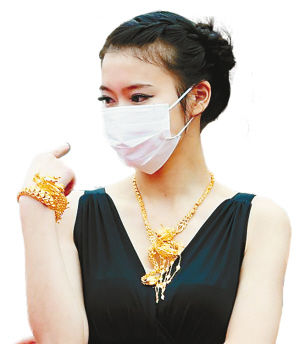face_mask: (98, 48, 185, 172)
